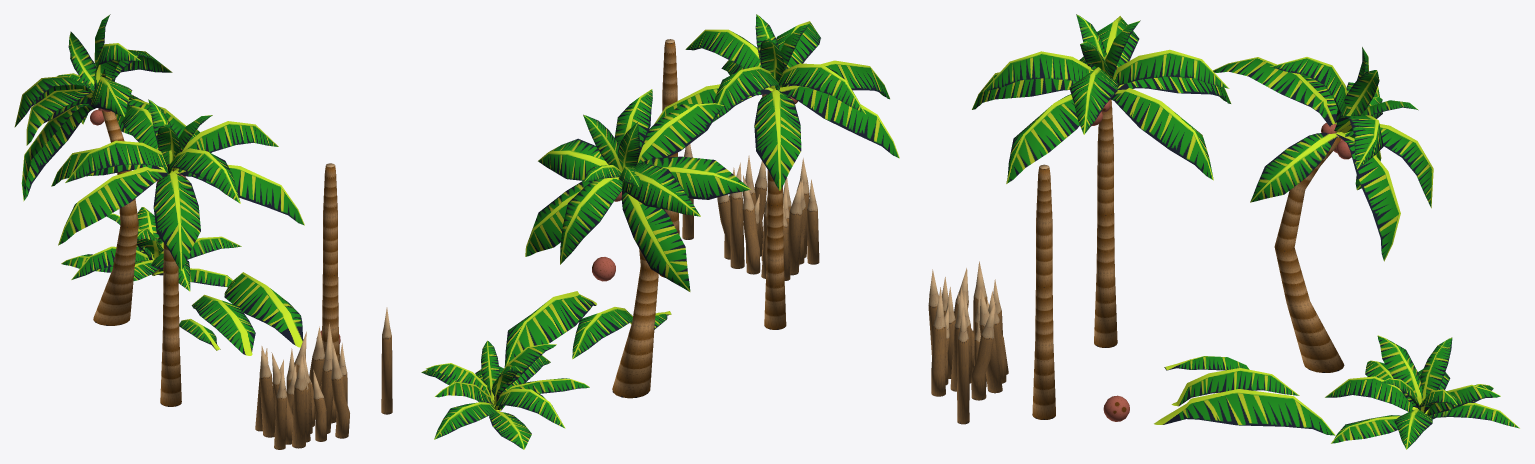
The model's file is Coqueiro_Plant_espinhos.fbx.
3 renders of one model, left to right at view 1: azimuth 30°, elevation 25°; view 2: azimuth 150°, elevation 25°; view 3: azimuth 270°, elevation 25°, orthographic. The views are drawn at different scales.
Parts seen in each view (by area): view 1: Coqueiro Reto.002, Coqueiro Torto.002, Espinhos.002, Planta.002, Tronco Coqueiro.002, Folha Grande.002, Folha Media.002, Estaca.002, Folha Pequena.002; view 2: Coqueiro Torto.002, Coqueiro Reto.002, Planta.002, Espinhos.002, Folha Grande.002, Folha Media.002, Tronco Coqueiro.002, Coco; view 3: Coqueiro Reto.002, Coqueiro Torto.002, Planta.002, Espinhos.002, Tronco Coqueiro.002, Folha Grande.002, Folha Media.002, Estaca.002, Folha Pequena.002.
Part boxes in pixels (x1,y1,x2,y2): Coqueiro Reto.002: (51, 99, 304, 406); Coqueiro Torto.002: (14, 14, 185, 325); Espinhos.002: (255, 322, 349, 449); Planta.002: (61, 207, 241, 291); Tronco Coqueiro.002: (320, 163, 339, 389); Folha Grande.002: (224, 272, 303, 347); Folha Media.002: (191, 294, 255, 355); Estaca.002: (381, 307, 392, 414); Folha Pequena.002: (179, 319, 220, 350); Coqueiro Torto.002: (525, 89, 750, 398); Coqueiro Reto.002: (654, 14, 899, 329); Planta.002: (421, 340, 589, 449); Espinhos.002: (717, 155, 819, 280); Folha Grande.002: (504, 291, 596, 367); Folha Media.002: (572, 307, 632, 359); Tronco Coqueiro.002: (659, 39, 679, 277); Coco: (592, 257, 615, 281); Coqueiro Reto.002: (972, 14, 1231, 347); Coqueiro Torto.002: (1213, 47, 1433, 372); Planta.002: (1325, 335, 1519, 449); Espinhos.002: (928, 261, 1008, 400); Tronco Coqueiro.002: (1032, 164, 1055, 419); Folha Grande.002: (1154, 389, 1335, 435); Folha Media.002: (1171, 368, 1299, 406); Estaca.002: (957, 307, 969, 424); Folha Pequena.002: (1164, 356, 1249, 370).
Bounding box in the file's own units: 2716 × 2418 × 3911.
1 material, 1 textured.
